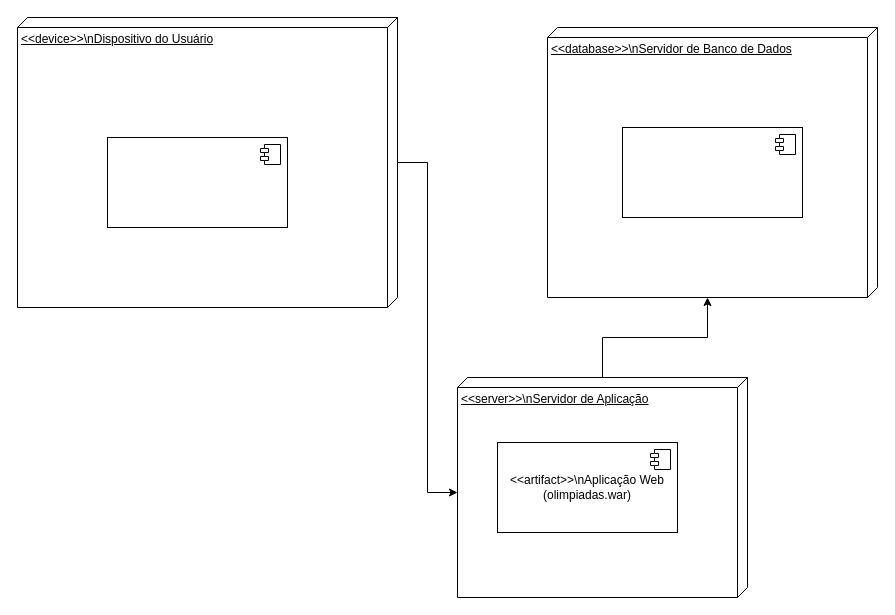
This 895x615 diagram has some shape labels left out. The shapes that lost their labels are listed below. From the top down, each one's centre as x and y in pixels, then its label:
pixel 197 182: <<artifact>>\nNavegador Web
pixel 712 172: <<artifact>>\nBanco de Dados (PostgreSQL)
